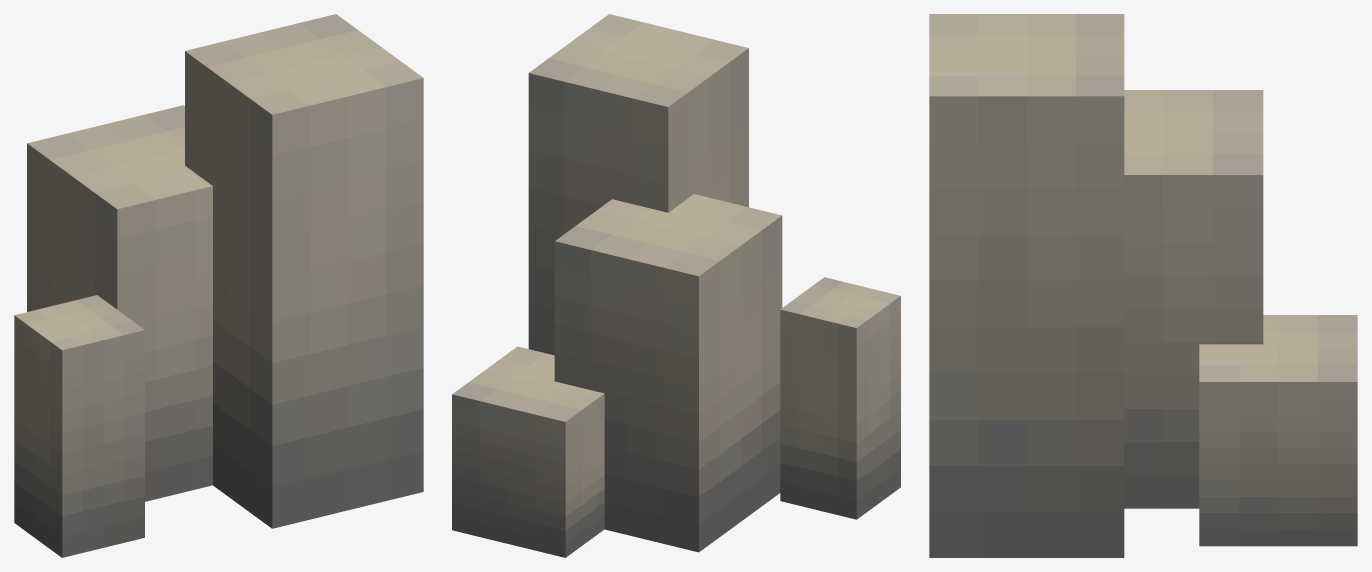
File: wolframite_crystal_four.obj
The picture shows the model from 3 angles, left to right: view 1: azimuth 30°, elevation 25°; view 2: azimuth 150°, elevation 25°; view 3: azimuth 270°, elevation 25°; orthographic projection. The views are drawn at different scales.
Visible parts, largest first — view 1: Crystal5_Cube.008; view 2: Crystal5_Cube.008; view 3: Crystal5_Cube.008.
Boxes of the visible parts, left/top/right/bottom form: Crystal5_Cube.008: left=14, top=14, right=423, bottom=557; Crystal5_Cube.008: left=452, top=14, right=900, bottom=557; Crystal5_Cube.008: left=929, top=14, right=1357, bottom=557.
Bounding box in the file's own units: 0.4231 × 0.494 × 0.4151.
